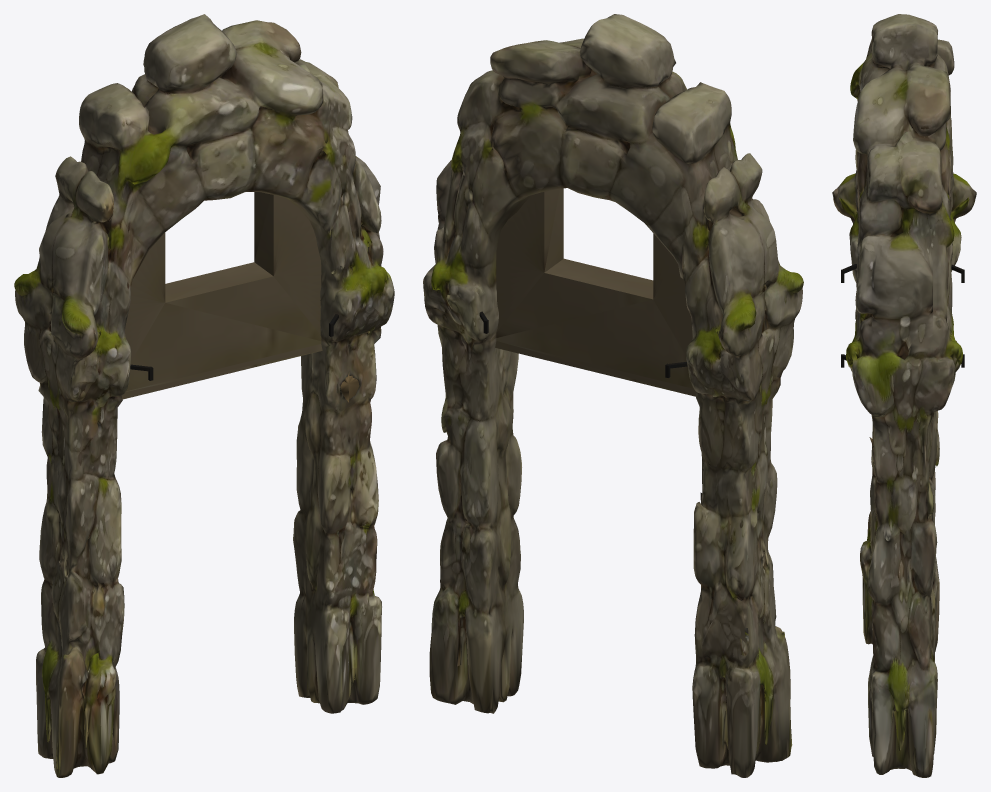
The model's file is gate_arch.obj.
3 views of the same model, side by side, from view 1: azimuth 30°, elevation 25°; view 2: azimuth 150°, elevation 25°; view 3: azimuth 270°, elevation 25° (orthographic). The views are drawn at different scales.
Parts seen in each view (by area): view 1: gate_arch; view 2: gate_arch; view 3: gate_arch.
Boxes of the visible parts, x1=… form: gate_arch: x1=14, y1=14, x2=394, y2=777; gate_arch: x1=423, y1=14, x2=803, y2=777; gate_arch: x1=832, y1=14, x2=976, y2=777.
Bounding box in the file's own units: 2.57 × 5.26 × 1.01.
1 material, 1 textured.
